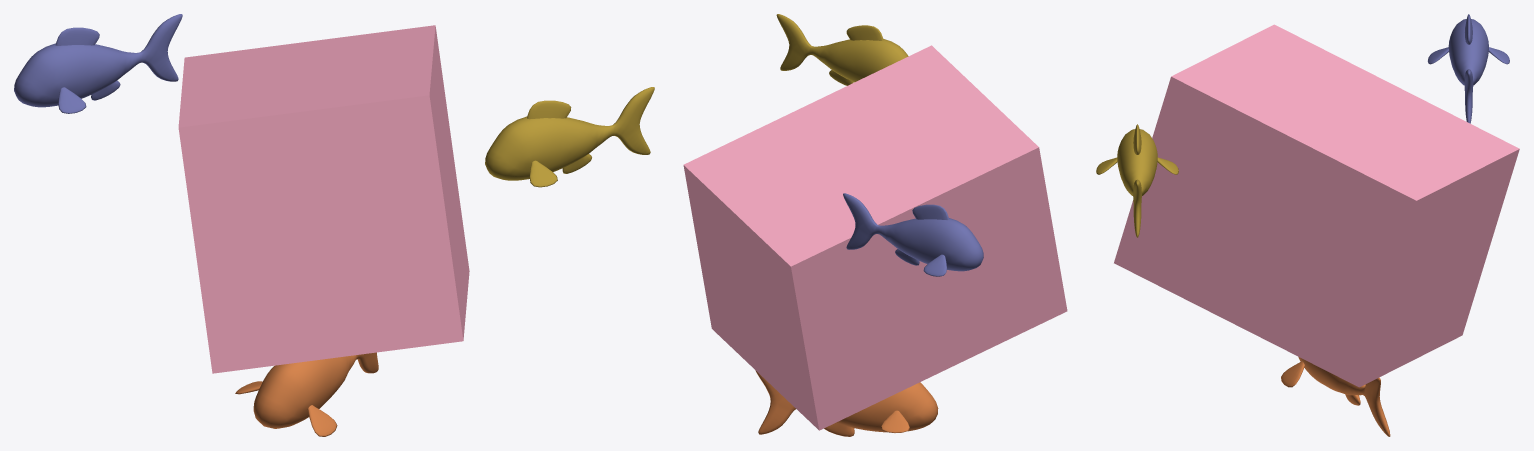
File: tester.gltf
The picture shows the model from 3 angles, left to right: view 1: azimuth 30°, elevation 25°; view 2: azimuth 150°, elevation 25°; view 3: azimuth 270°, elevation 25°; orthographic projection. The views are drawn at different scales.
Parts seen in each view (by area): view 1: Node #0, Node #2, Node #1, Node #3; view 2: Node #0, Node #1, Node #2, Node #3; view 3: Node #0, Node #2, Node #1, Node #3.
Part boxes in pixels (x1,y1,x2,y2): Node #0: (178, 25, 469, 373); Node #2: (485, 87, 654, 187); Node #1: (14, 14, 182, 113); Node #3: (235, 352, 378, 436); Node #0: (683, 45, 1067, 430); Node #1: (843, 193, 983, 276); Node #2: (776, 14, 908, 85); Node #3: (755, 370, 938, 436); Node #0: (1114, 24, 1519, 387); Node #2: (1096, 124, 1178, 237); Node #1: (1427, 14, 1509, 123); Node #3: (1281, 357, 1390, 436).
Bounding box in the file's own units: 0.3129 × 0.2634 × 0.3075.
Materials: 4 (4 with a texture image).
